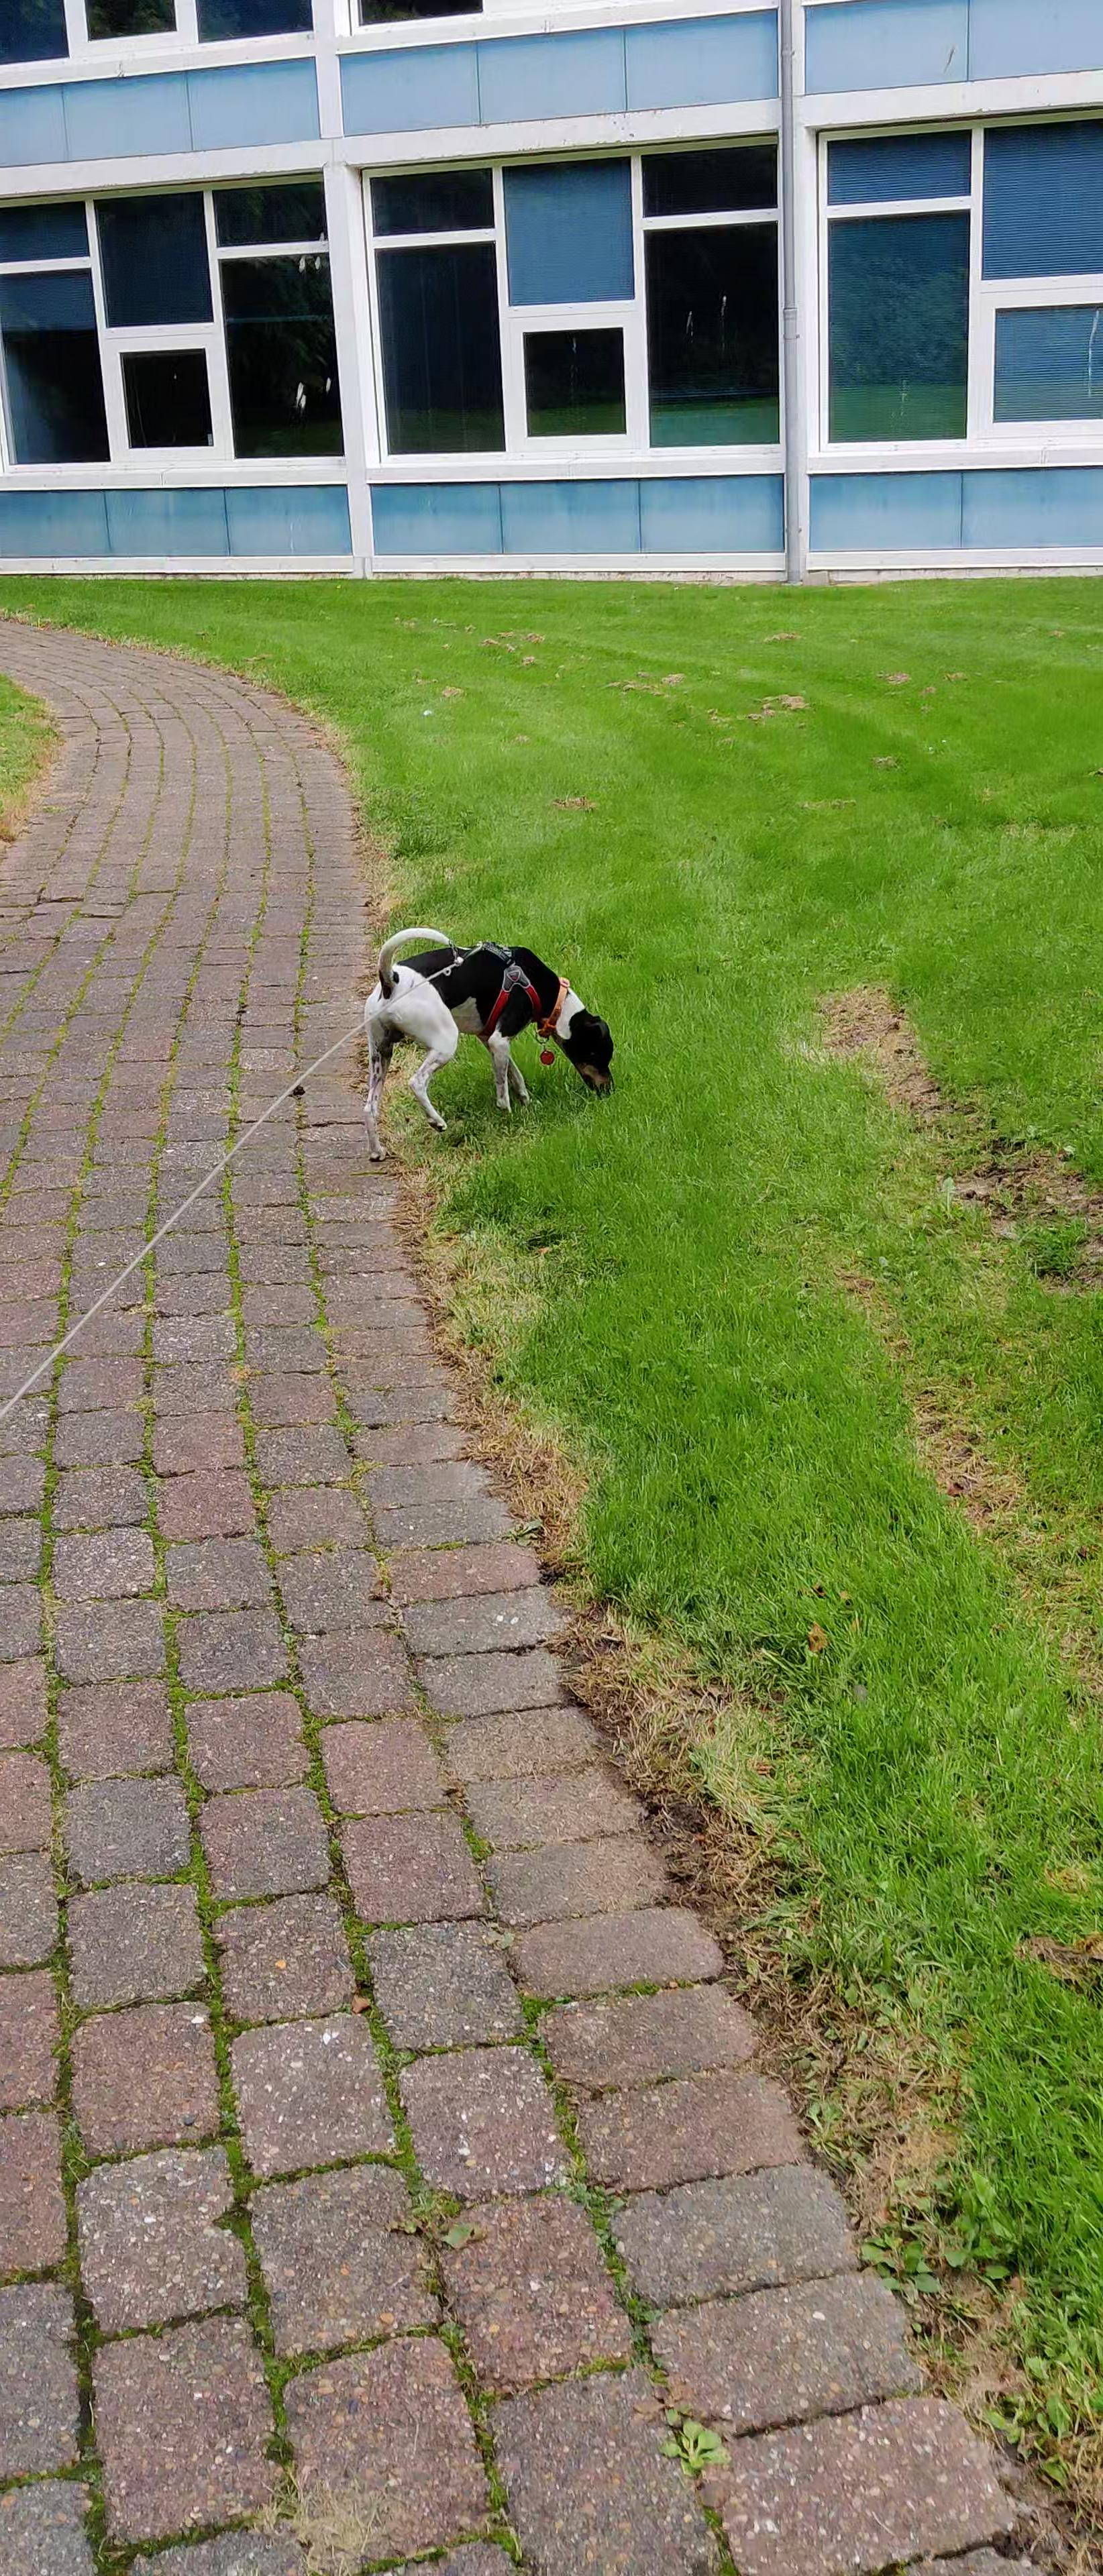Dog: (344, 917, 626, 1168)
